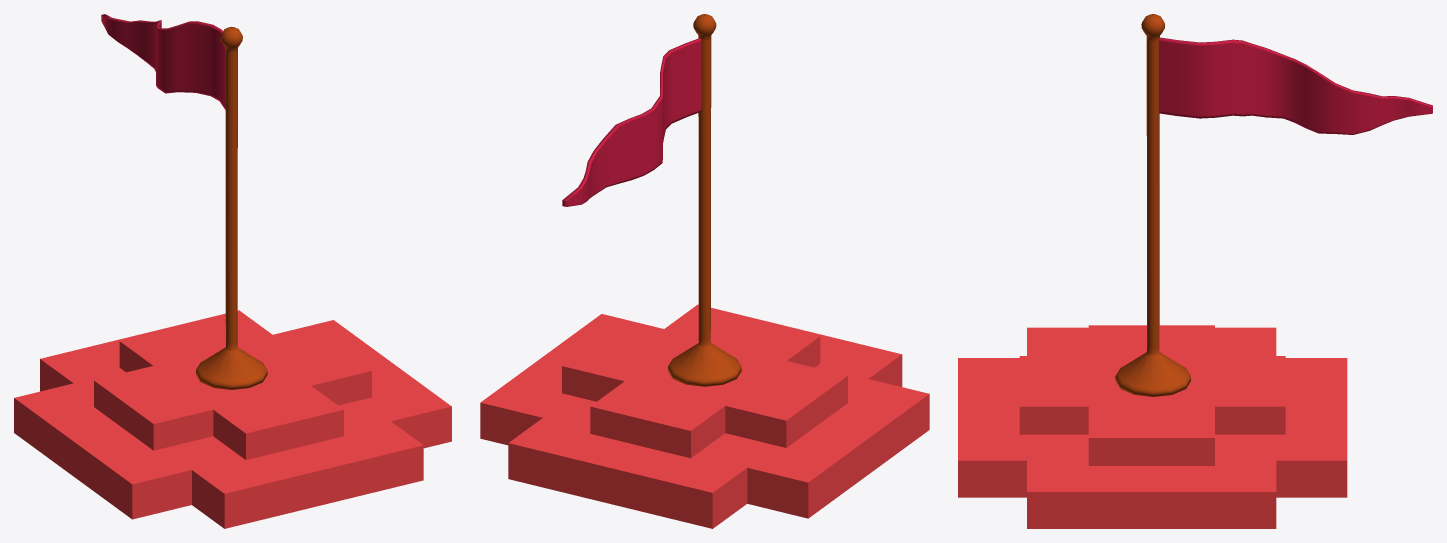
File: endModel_smoothed.fbx
3 views of the same model, side by side, from view 1: azimuth 30°, elevation 25°; view 2: azimuth 150°, elevation 25°; view 3: azimuth 270°, elevation 25° (orthographic). The views are drawn at different scales.
Visible parts, largest first — view 1: endBase, endFlag, endPole; view 2: endBase, endFlag, endPole; view 3: endBase, endFlag, endPole.
Boxes of the visible parts, x1,y1,x2,y2 form: endBase: [14, 310, 451, 528]; endFlag: [101, 14, 225, 109]; endPole: [196, 26, 267, 389]; endBase: [480, 304, 929, 528]; endFlag: [562, 38, 701, 206]; endPole: [668, 14, 741, 386]; endBase: [958, 325, 1347, 528]; endFlag: [1159, 37, 1432, 134]; endPole: [1115, 14, 1190, 396].
Size of the model in its own units: 113 by 138 by 138.
